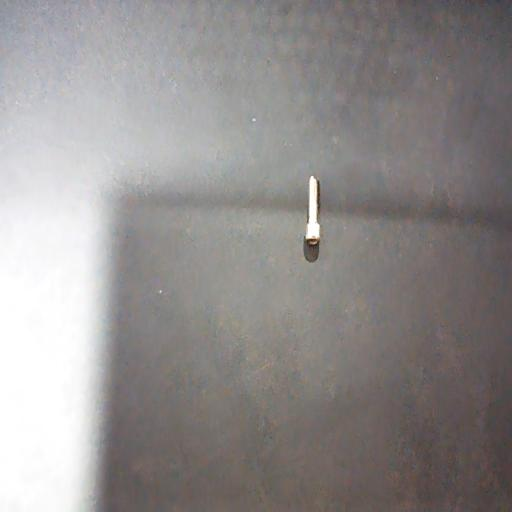screw: (306, 174, 320, 246)
